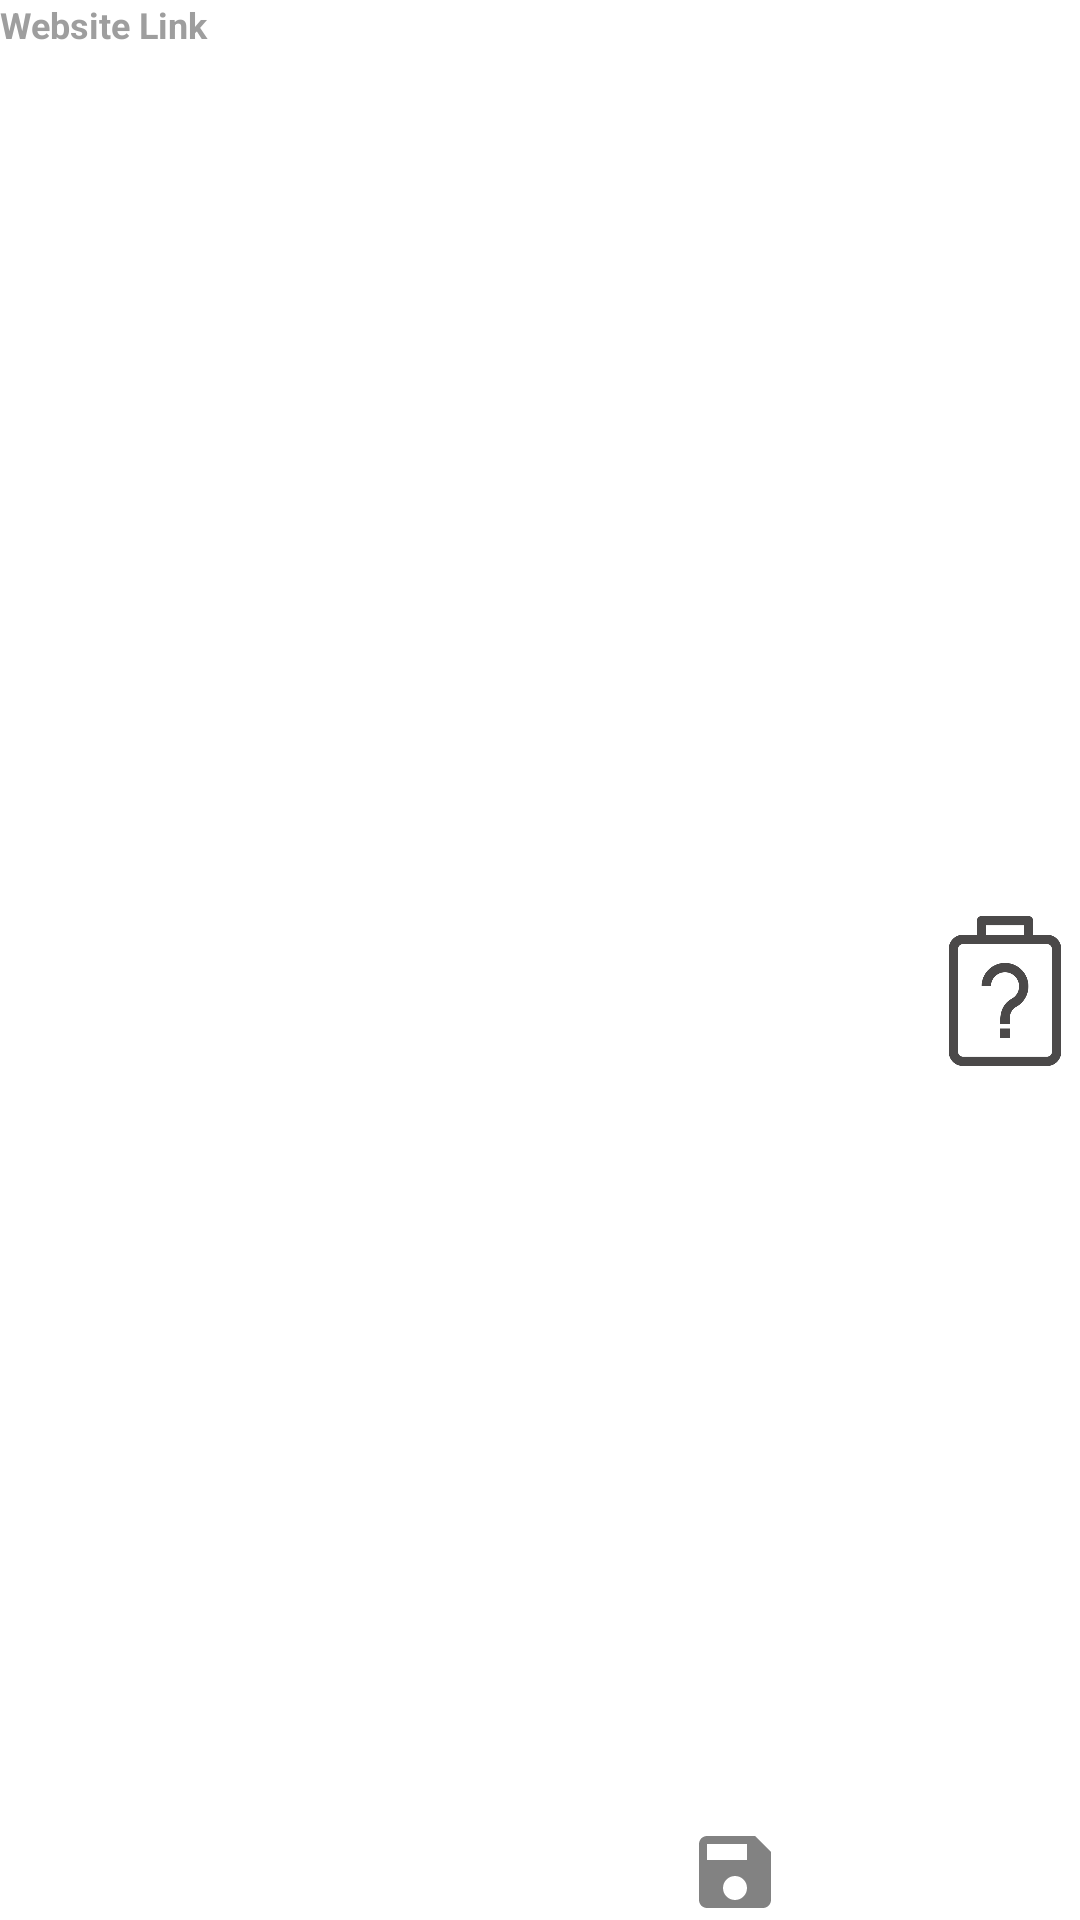

Icon click points for this 1080 x 1920 phone screenshot, format point (x, y):
save: point (735, 1872)
